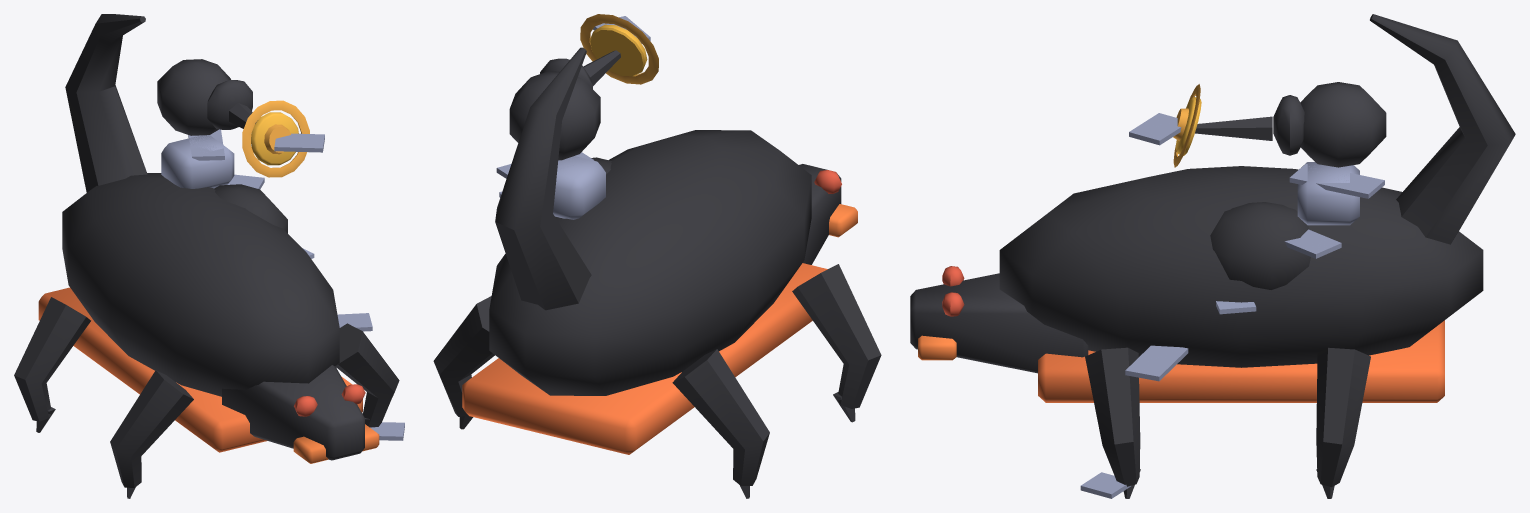
File: thrasher.glb
3 renders of one model, left to right at view 1: azimuth 30°, elevation 25°; view 2: azimuth 150°, elevation 25°; view 3: azimuth 270°, elevation 25°, orthographic. The views are drawn at different scales.
Visible parts, largest first — view 1: Thrasher; view 2: Thrasher; view 3: Thrasher.
Boxes of the visible parts, <box> form: Thrasher: <box>14,14,404,498</box>; Thrasher: <box>433,14,881,498</box>; Thrasher: <box>910,14,1515,498</box>.
Size of the model in its own units: 2.59 by 3.2 by 4.21.
Materials: 1 (1 with a texture image).
